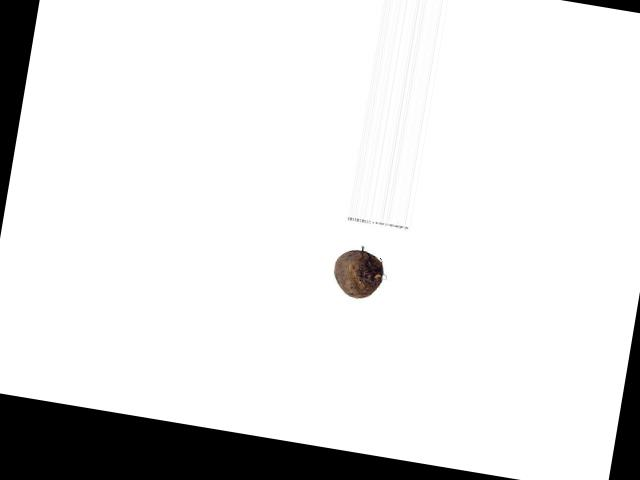beet: (329, 246, 385, 300)
